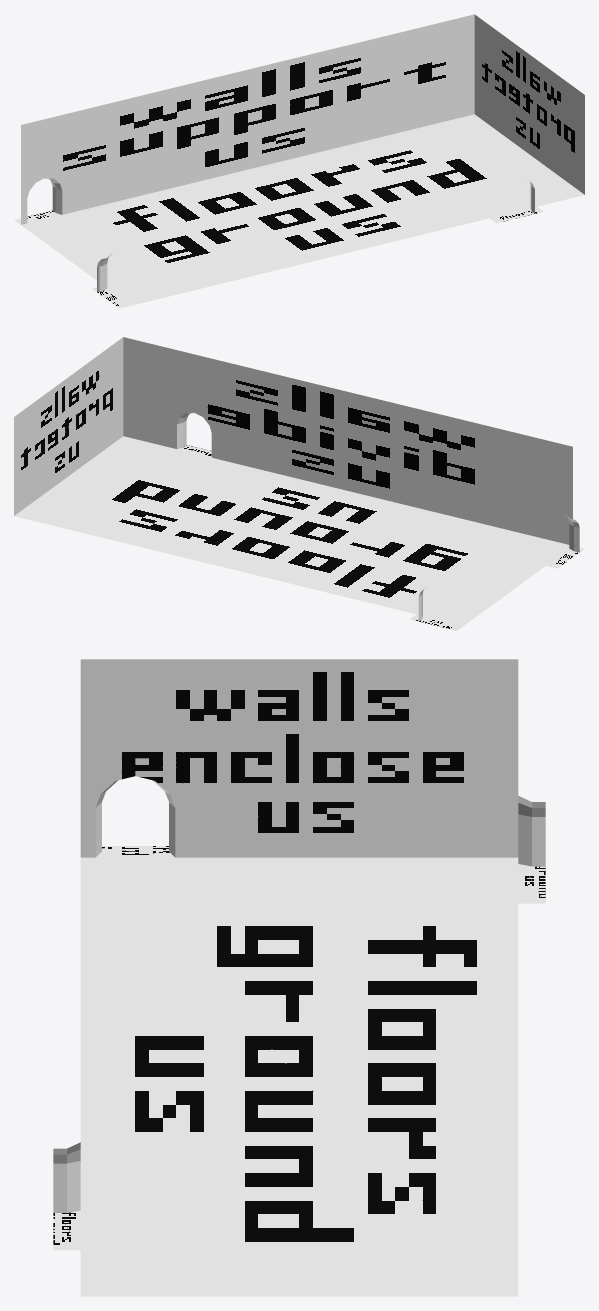
File: Room3.glb
The picture shows the model from 3 angles, top to bottom: view 1: azimuth 30°, elevation 25°; view 2: azimuth 150°, elevation 25°; view 3: azimuth 270°, elevation 25°; orthographic projection. The views are drawn at different scales.
Parts seen in each view (by area): view 1: Floor, WallEast, WallSouth; view 2: Floor, WallWest, WallSouth; view 3: Floor, WallNorth, WallWest, WallEast.
Part boxes in pixels (x1,y1,x2,y2): Floor: [14, 114, 584, 308]; WallEast: [21, 14, 474, 224]; WallSouth: [474, 14, 584, 194]; Floor: [14, 436, 584, 630]; WallWest: [123, 337, 572, 544]; WallSouth: [14, 337, 123, 515]; Floor: [53, 846, 545, 1296]; WallNorth: [80, 659, 518, 857]; WallWest: [53, 1142, 80, 1212]; WallEast: [518, 796, 545, 866].
Bounding box in the file's own units: 19.5 × 4 × 9.
Materials: 6 (6 with a texture image).
